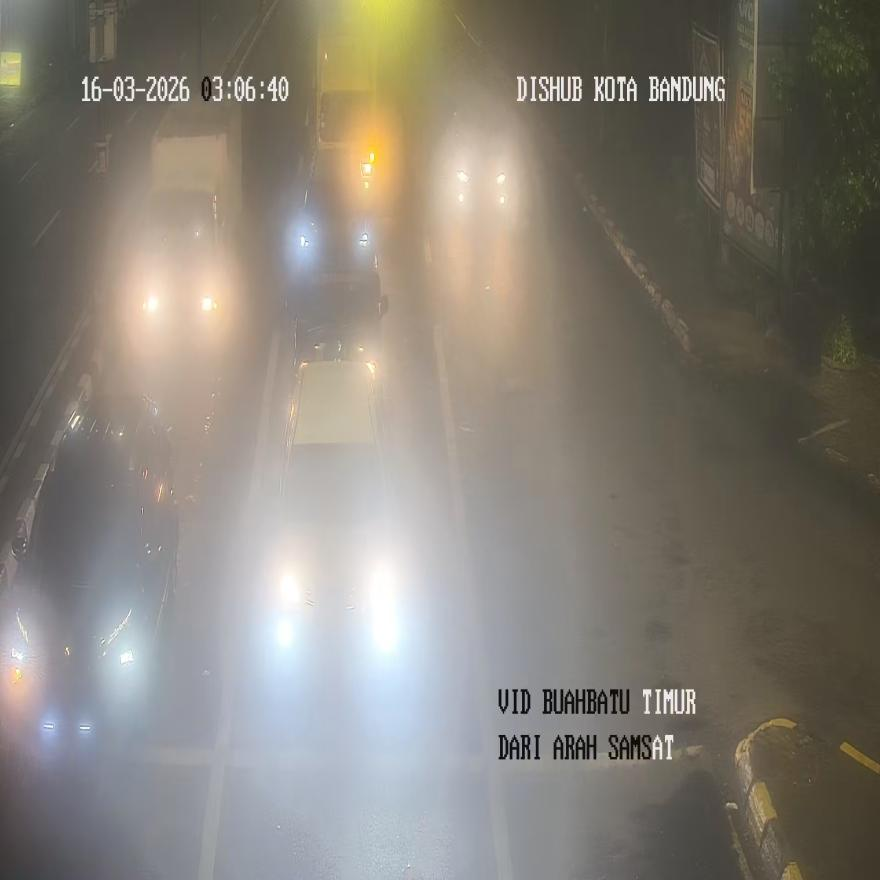Mobil: (8, 394, 179, 752), (270, 357, 402, 673), (135, 104, 242, 342), (283, 262, 393, 378), (289, 154, 386, 272), (443, 98, 520, 240)
Truk ringan: (297, 33, 398, 183)
